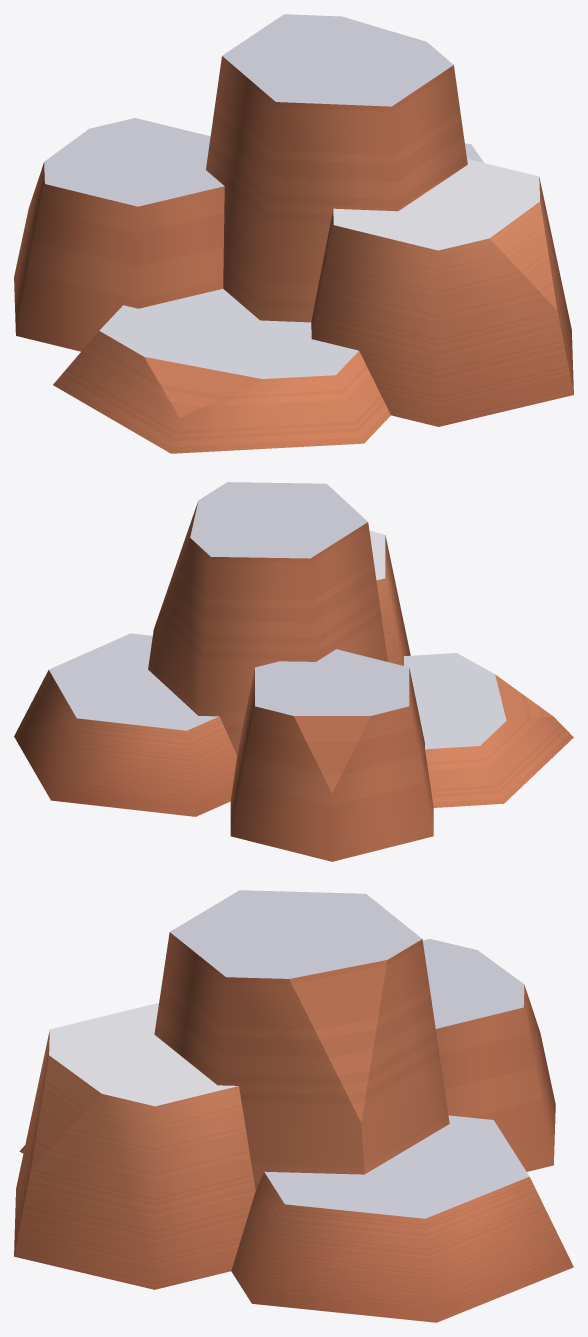
File: snow-detail-dirt-large.glb
3 renders of one model, top to bottom at view 1: azimuth 30°, elevation 25°; view 2: azimuth 150°, elevation 25°; view 3: azimuth 270°, elevation 25°, orthographic. The views are drawn at different scales.
Visible parts, largest first — view 1: snow-detail-dirt-large; view 2: snow-detail-dirt-large; view 3: snow-detail-dirt-large.
Part boxes in pixels (x1,y1,x2,y2): snow-detail-dirt-large: (14, 14, 573, 453); snow-detail-dirt-large: (14, 482, 573, 861); snow-detail-dirt-large: (14, 890, 573, 1322).
Bounding box in the file's own units: 0.8531 × 0.4145 × 0.7785.
Materials: 1 (1 with a texture image).
